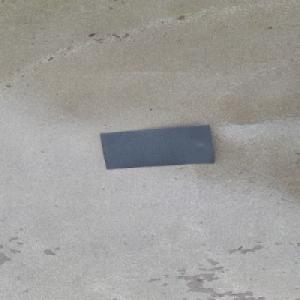PaintChip: (99, 124, 215, 169)
